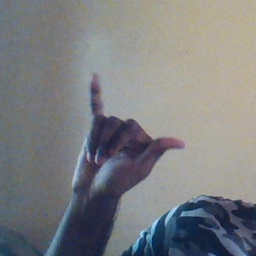J: (75, 71, 191, 198)
